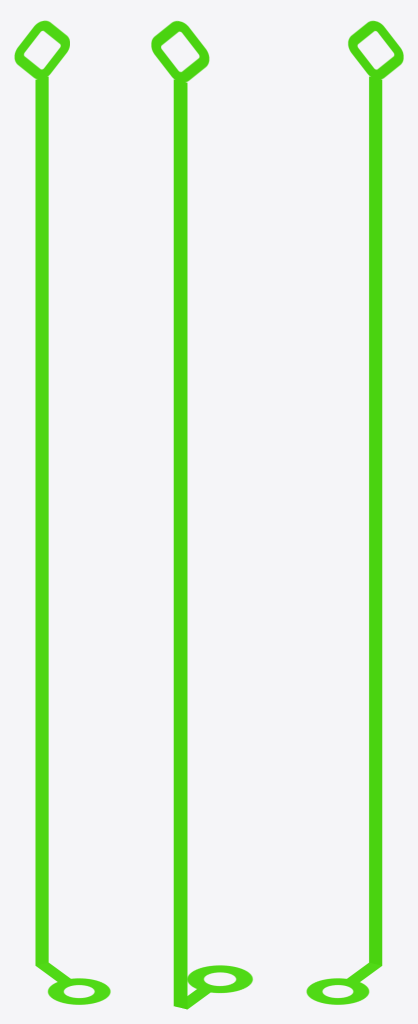
The model's file is 7_2_cl_active.glb.
3 views of the same model, side by side, from view 1: azimuth 30°, elevation 25°; view 2: azimuth 150°, elevation 25°; view 3: azimuth 330°, elevation 25° (orthographic). The views are drawn at different scales.
Parts seen in each view (by area): view 1: 7_2_cl_active; view 2: 7_2_cl_active; view 3: 7_2_cl_active.
Boxes of the visible parts, x1,y1,x2,y2 form: 7_2_cl_active: (14,20,110,1004); 7_2_cl_active: (151,21,252,1009); 7_2_cl_active: (306,20,403,1004).
Size of the model in its own units: 0.3315 by 5.35 by 0.5487.
1 material, 1 textured.
